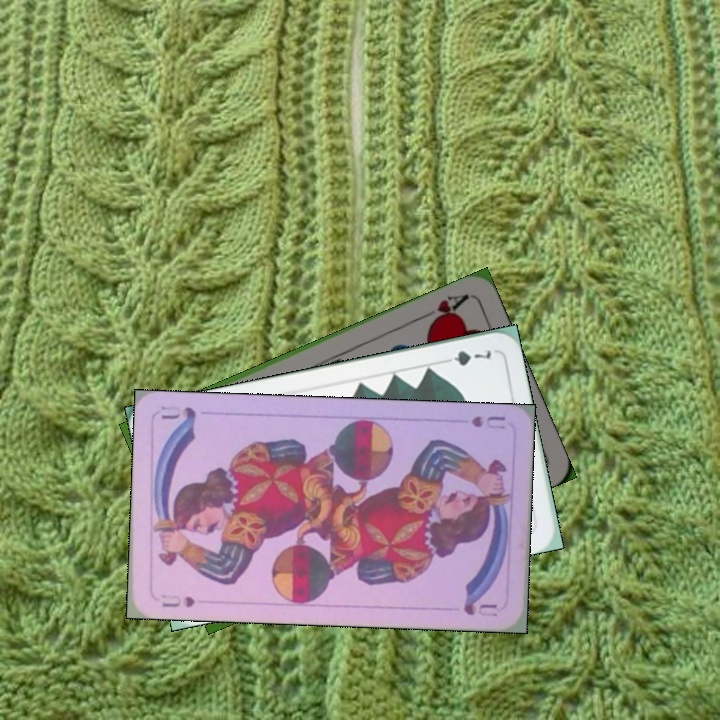G7: (436, 345, 495, 369)
HA: (415, 289, 471, 328)
SU: (467, 412, 508, 432), (158, 590, 198, 610)
